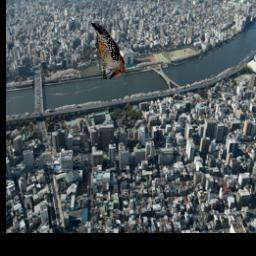Woodpecker: (91, 24, 125, 80)
